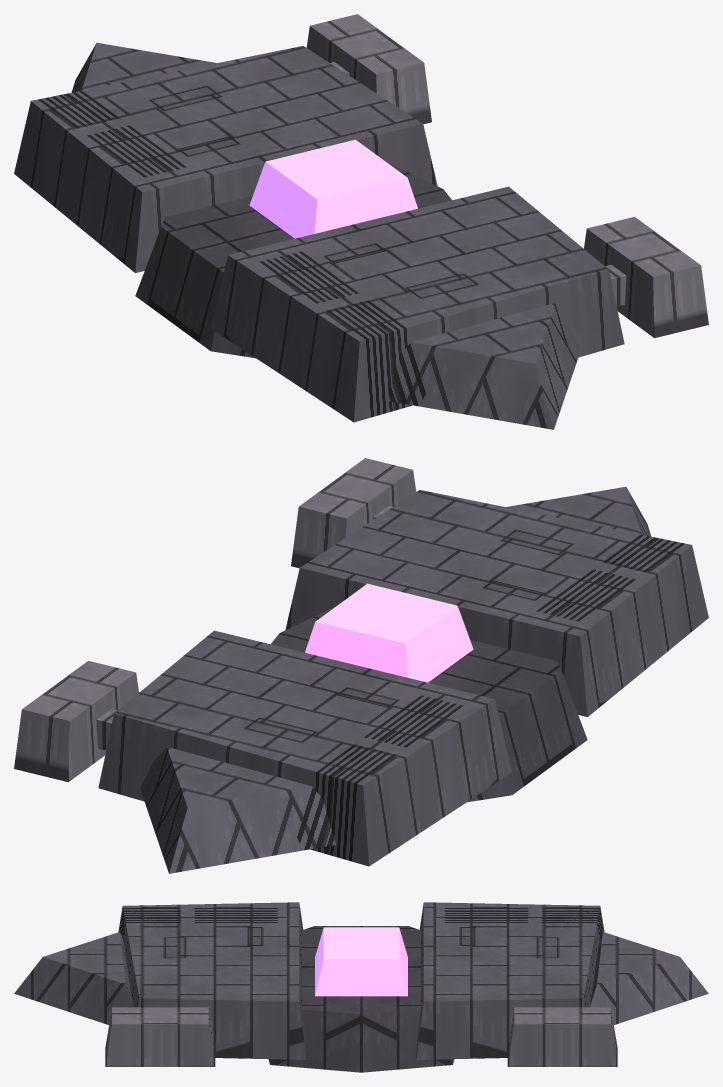
File: anvil_iris.glb
3 renders of one model, top to bottom at view 1: azimuth 30°, elevation 25°; view 2: azimuth 150°, elevation 25°; view 3: azimuth 270°, elevation 25°, orthographic. The views are drawn at different scales.
Size of the model in its own units: 33 by 10 by 76.
6 materials, 5 textured.
